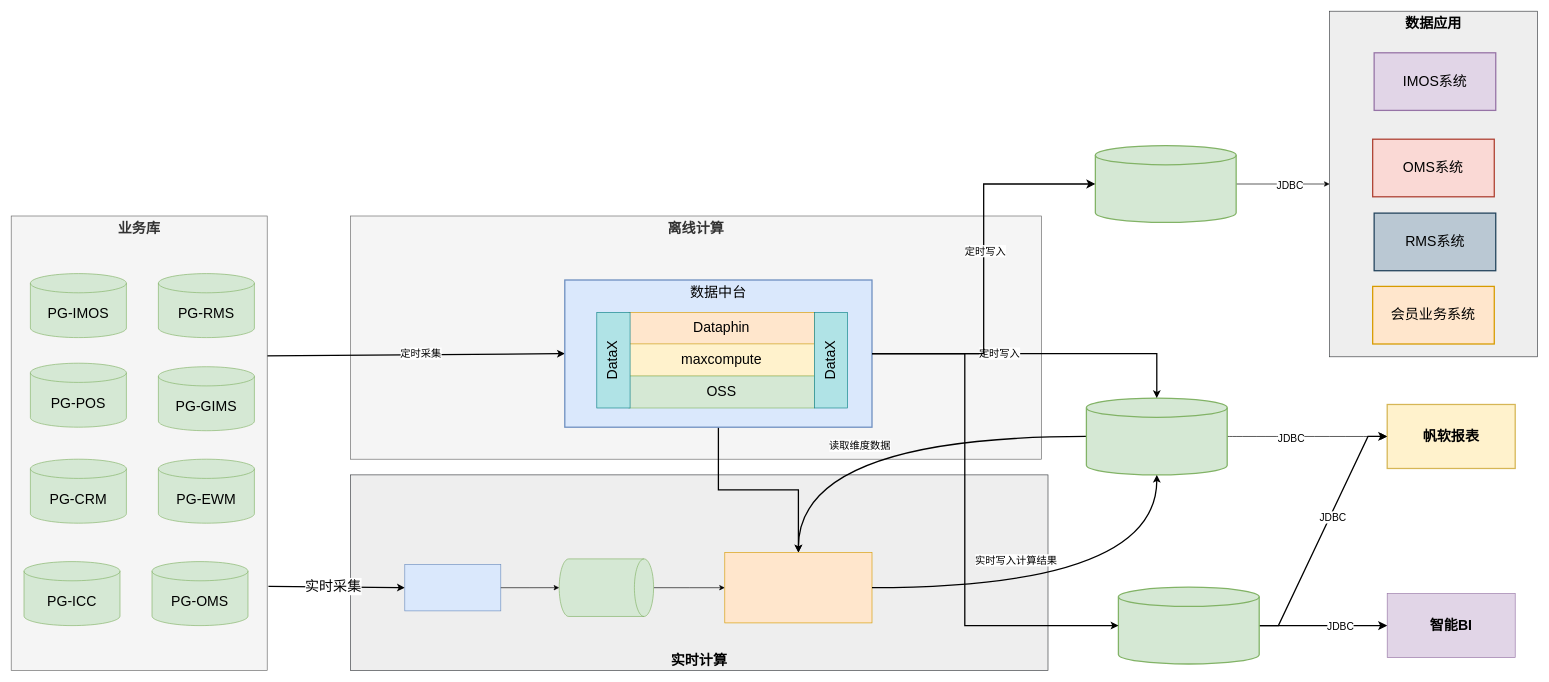
This 1549x682 diagram has some shape labels left out. Each missing label, with the centre of its shape:
ADB MySQL: pixel 1156 436
Debezium: pixel 452 587
Flink 实时计算: pixel 798 587
Kafka: pixel 606 587
PG-业务数据服务: pixel 1165 184
StarRocks: pixel 1188 625
